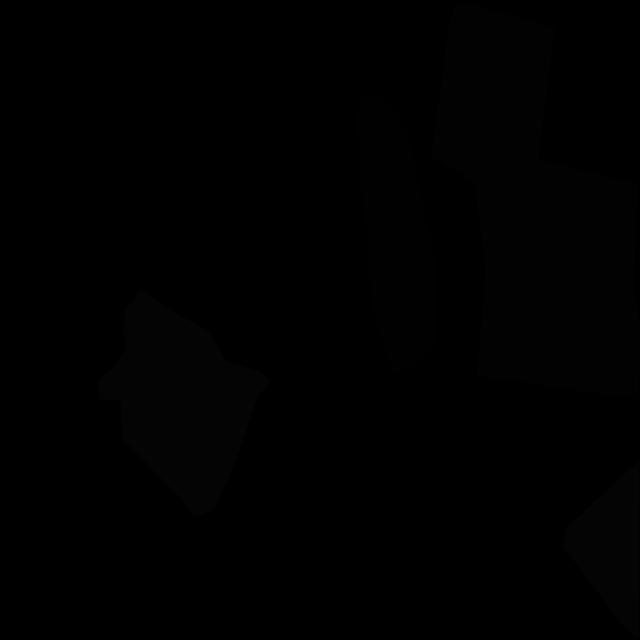cardboard: (475, 145, 640, 400), (431, 1, 555, 183)
rigid_plastic: (355, 92, 436, 375)
soft_plastic: (98, 290, 270, 516), (564, 460, 640, 639)
